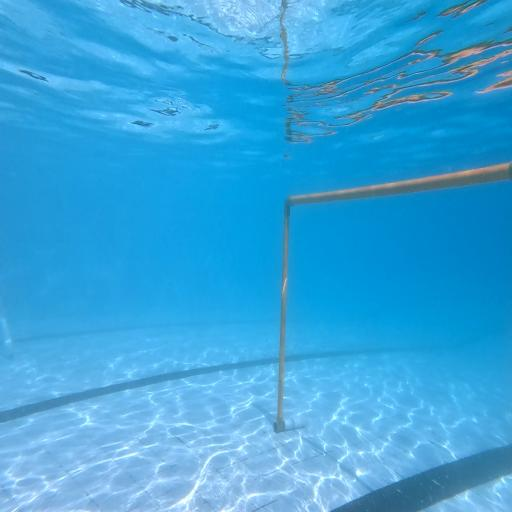gate: (273, 160, 512, 434)
